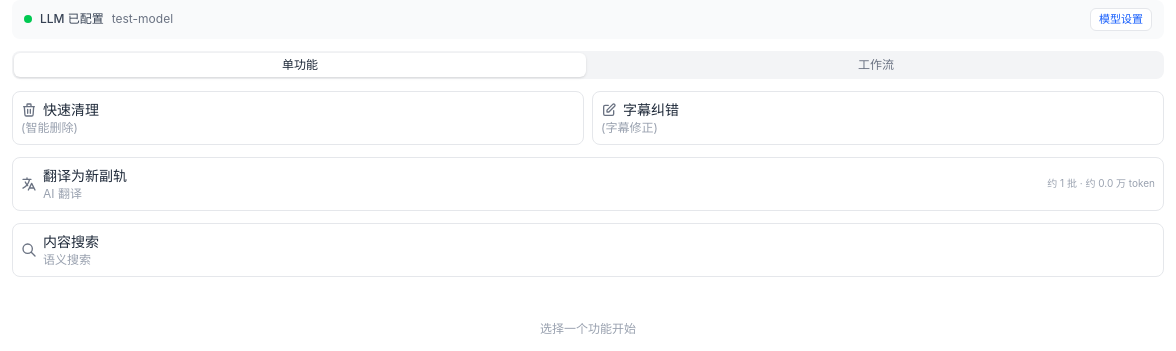
Scenario: AIAssistantPanel -- workflow mode › shows completion status and return-to-config button after workflow completes
Step 1. Click the button "工作流" → x=876, y=64, box [590,52,1162,76]
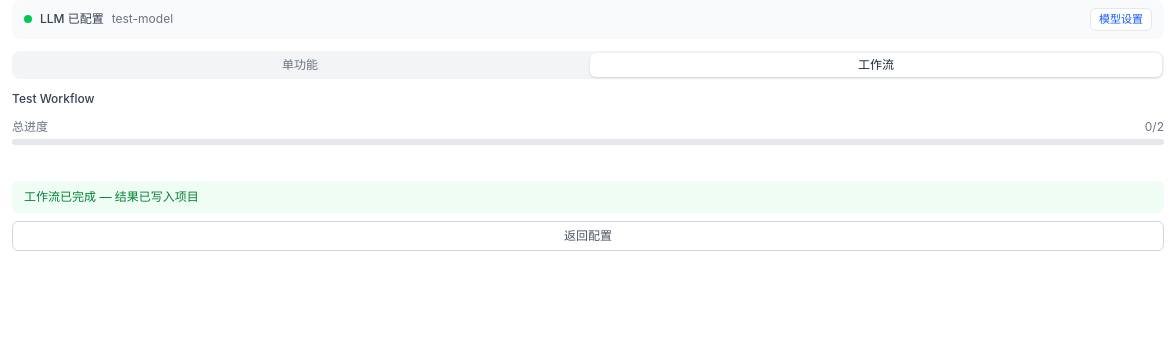
Expected: the text "工作流已完成" is shown, [24,188,199,204]
Expected: the text "返回配置" is shown, [12,220,1164,250]
